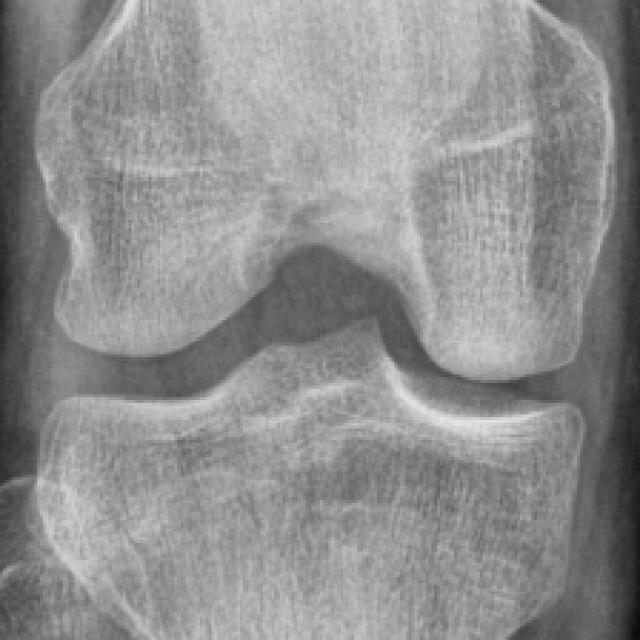femur: (35, 0, 616, 382)
tibia: (38, 323, 587, 640)
